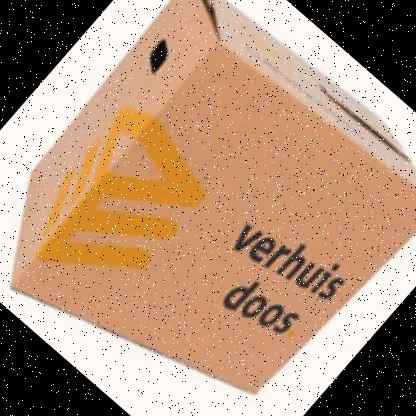box: (9, 1, 416, 395)
normal_hole: (149, 38, 169, 75)
